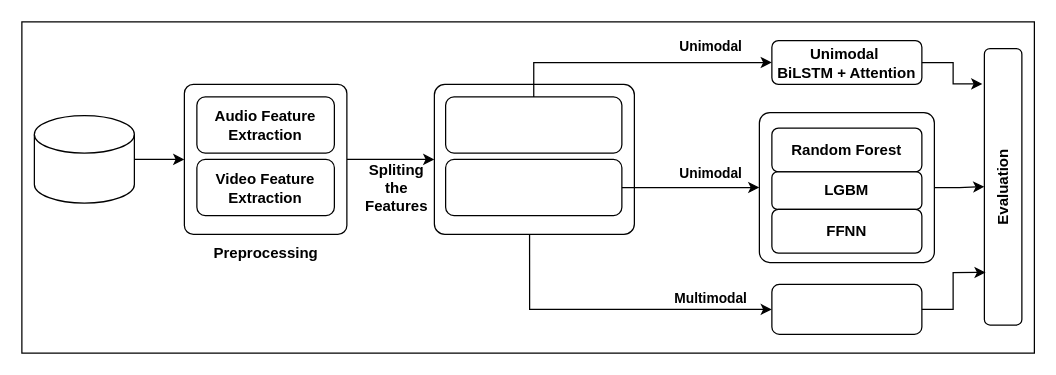
Image size: 1056x375. Some labels were removed from this diagram. Each missing label, with the centre of its shape:
Audio Feature Dataset (38 features): point (533, 124)
DAIC-WOZ dataset: point (83, 158)
Multimodal BiLSTM + Attention: point (846, 308)
Video Feature Dataset (378 features): point (533, 187)
